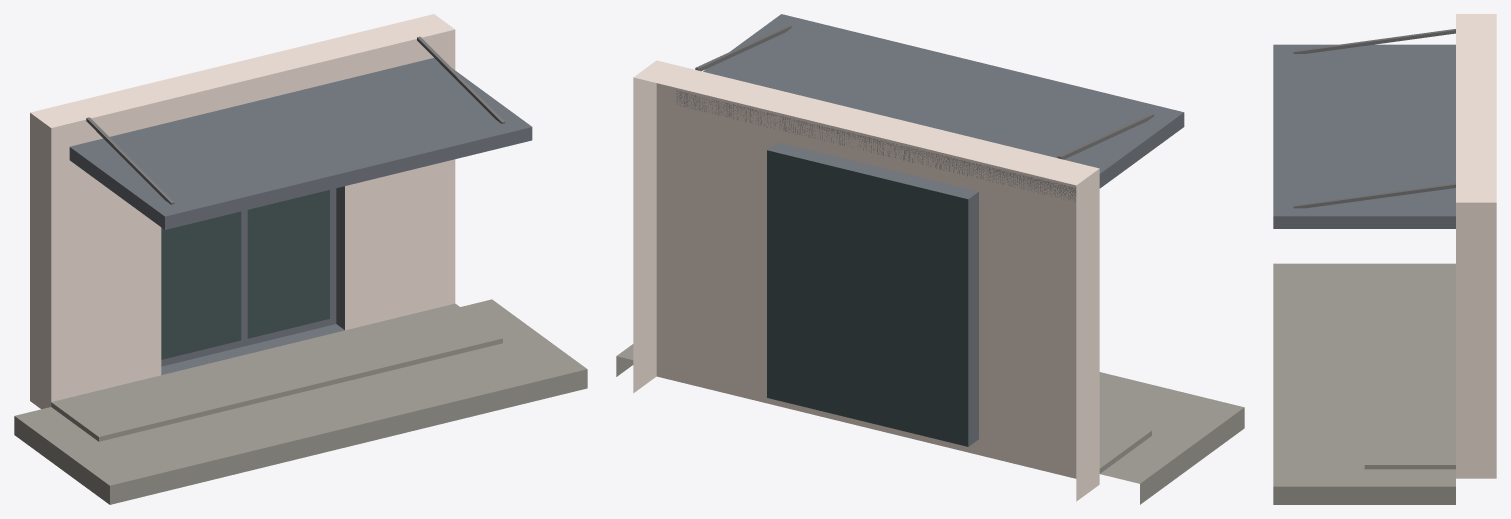
The model's file is entrance.fbx.
The picture shows the model from 3 angles, left to right: view 1: azimuth 30°, elevation 25°; view 2: azimuth 150°, elevation 25°; view 3: azimuth 270°, elevation 25°; orthographic projection. The views are drawn at different scales.
Parts seen in each view (by area): view 1: a2007/500/entrance; view 2: a2007/500/entrance; view 3: a2007/500/entrance.
Boxes of the visible parts, x1=… form: a2007/500/entrance: x1=14, y1=14, x2=587, y2=504; a2007/500/entrance: x1=616, y1=14, x2=1244, y2=504; a2007/500/entrance: x1=1273, y1=14, x2=1496, y2=504.
Bounding box in the file's own units: 5.2 × 3.12 × 2.2.
